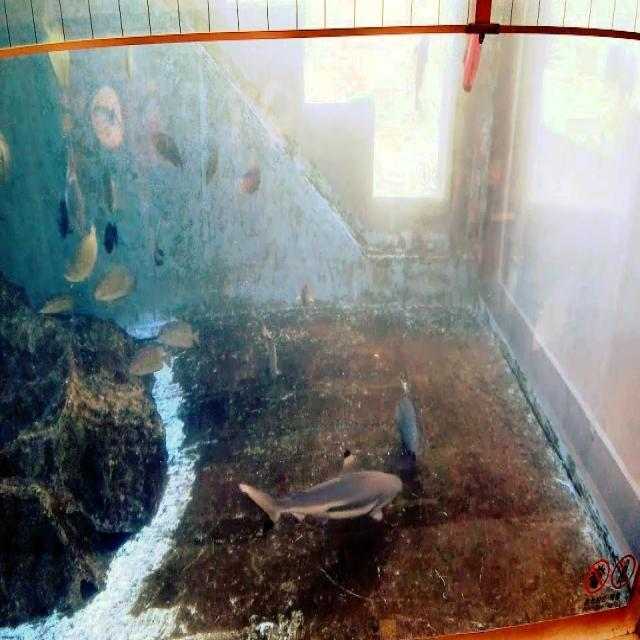angelfish: (141, 212, 172, 286)
gold snapper: (51, 132, 92, 239), (140, 111, 197, 180), (59, 214, 103, 292), (87, 256, 144, 311), (122, 333, 177, 383), (152, 308, 202, 357), (237, 146, 274, 212), (198, 134, 230, 194)
other black fish: (384, 385, 429, 473)
shark: (230, 442, 410, 547)
